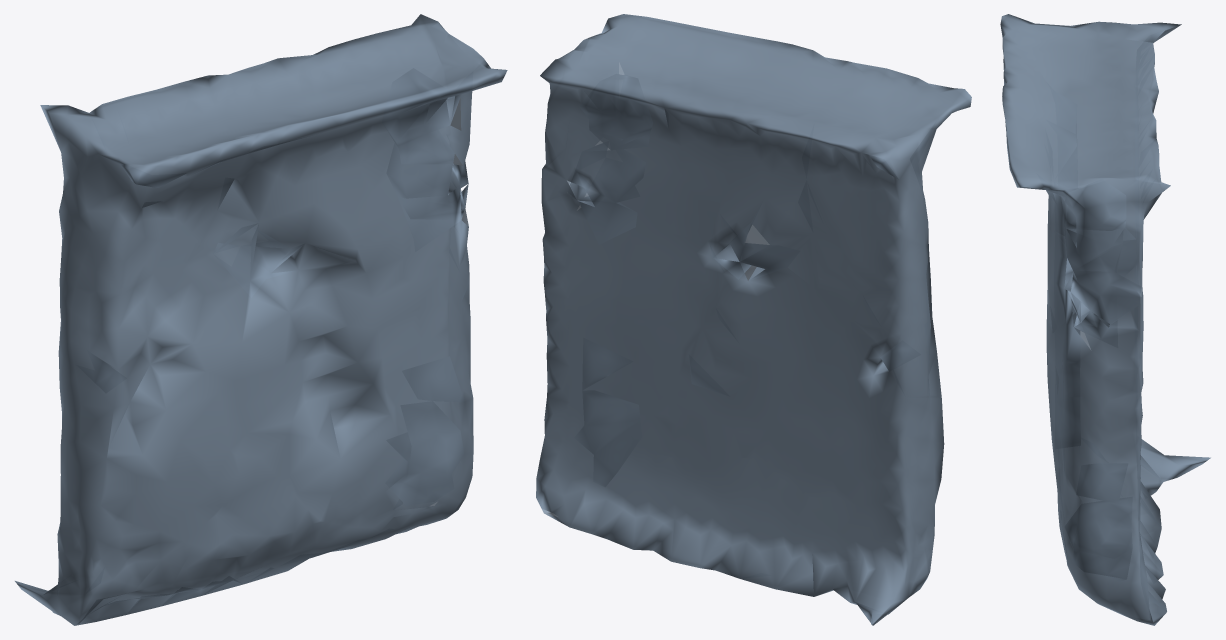
Rendered from sample_90_recon.obj.
3 views of the same model, side by side, from view 1: azimuth 30°, elevation 25°; view 2: azimuth 150°, elevation 25°; view 3: azimuth 270°, elevation 25° (orthographic). The views are drawn at different scales.
Bounding box in the file's own units: 1.21 × 1.48 × 0.6084.
